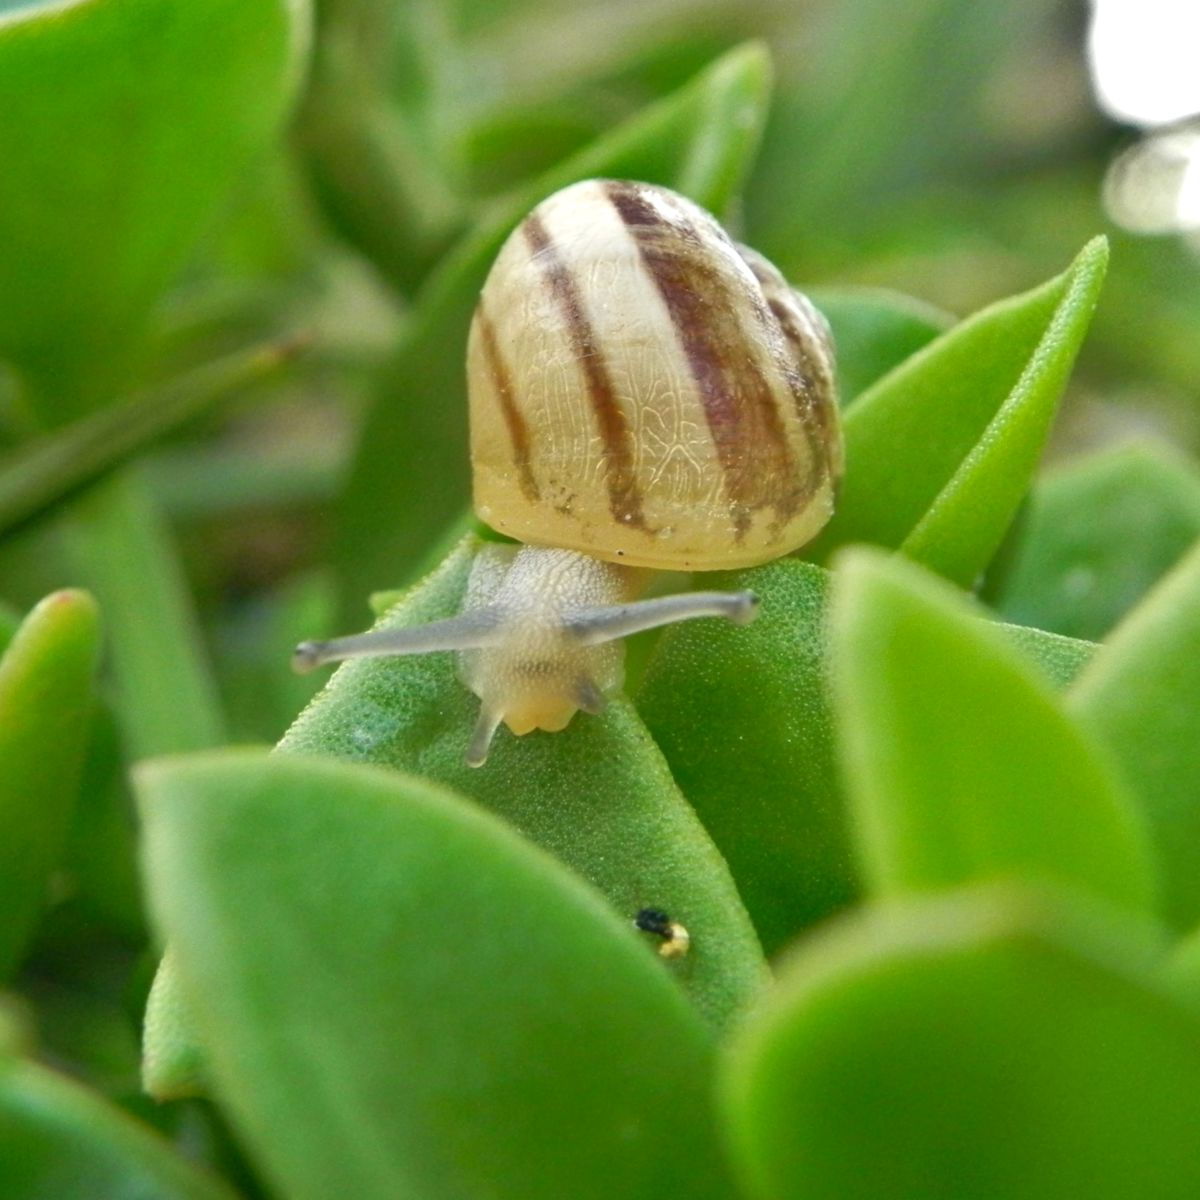snail: (315, 166, 865, 702)
